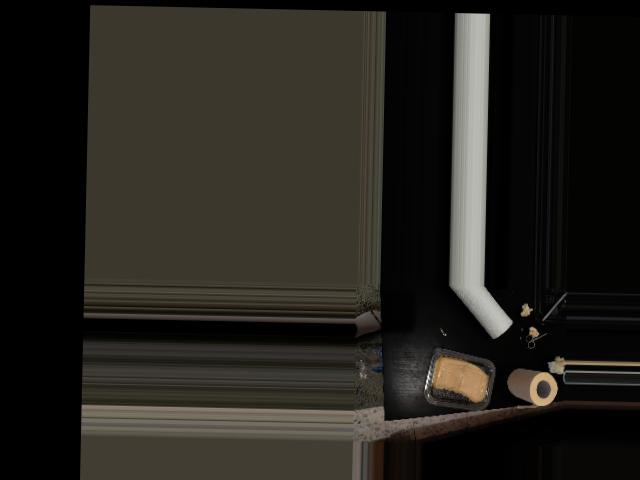cheese: (423, 349, 496, 406)
